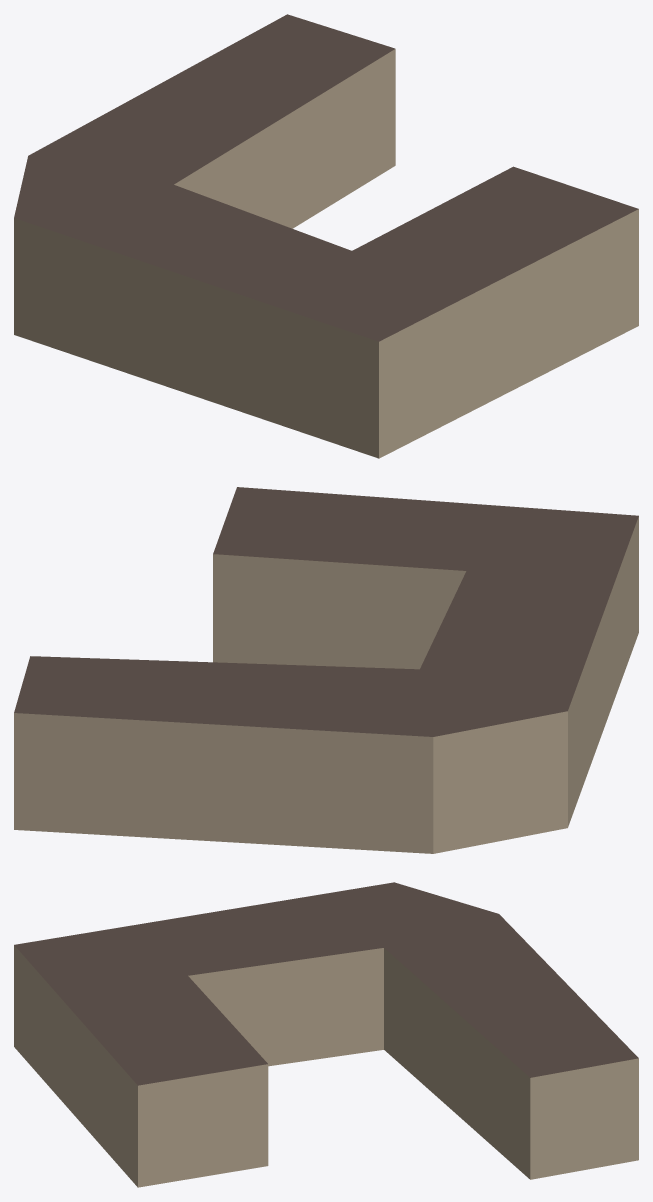
The picture shows the model from 3 angles, top to bottom: view 1: azimuth 30°, elevation 25°; view 2: azimuth 150°, elevation 25°; view 3: azimuth 270°, elevation 25°; orthographic projection. The views are drawn at different scales.
Parts seen in each view (by area): view 1: HP-w1544735756; view 2: HP-w1544735756; view 3: HP-w1544735756.
Part boxes in pixels (box(x1,y1,x2,y2)): HP-w1544735756: box(14, 14, 638, 458); HP-w1544735756: box(14, 487, 638, 853); HP-w1544735756: box(14, 882, 638, 1187).
Bounding box in the file's own units: 38.49 × 9 × 49.99.
